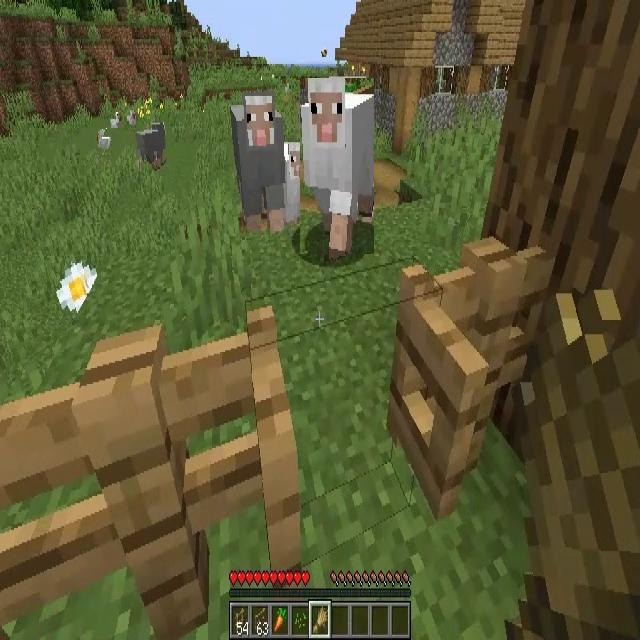duck: (97, 129, 112, 155), (110, 112, 120, 129), (126, 110, 135, 126)
flower: (57, 263, 96, 321)
sheep: (300, 78, 374, 254), (230, 96, 285, 229), (284, 142, 302, 222), (137, 124, 166, 170)
